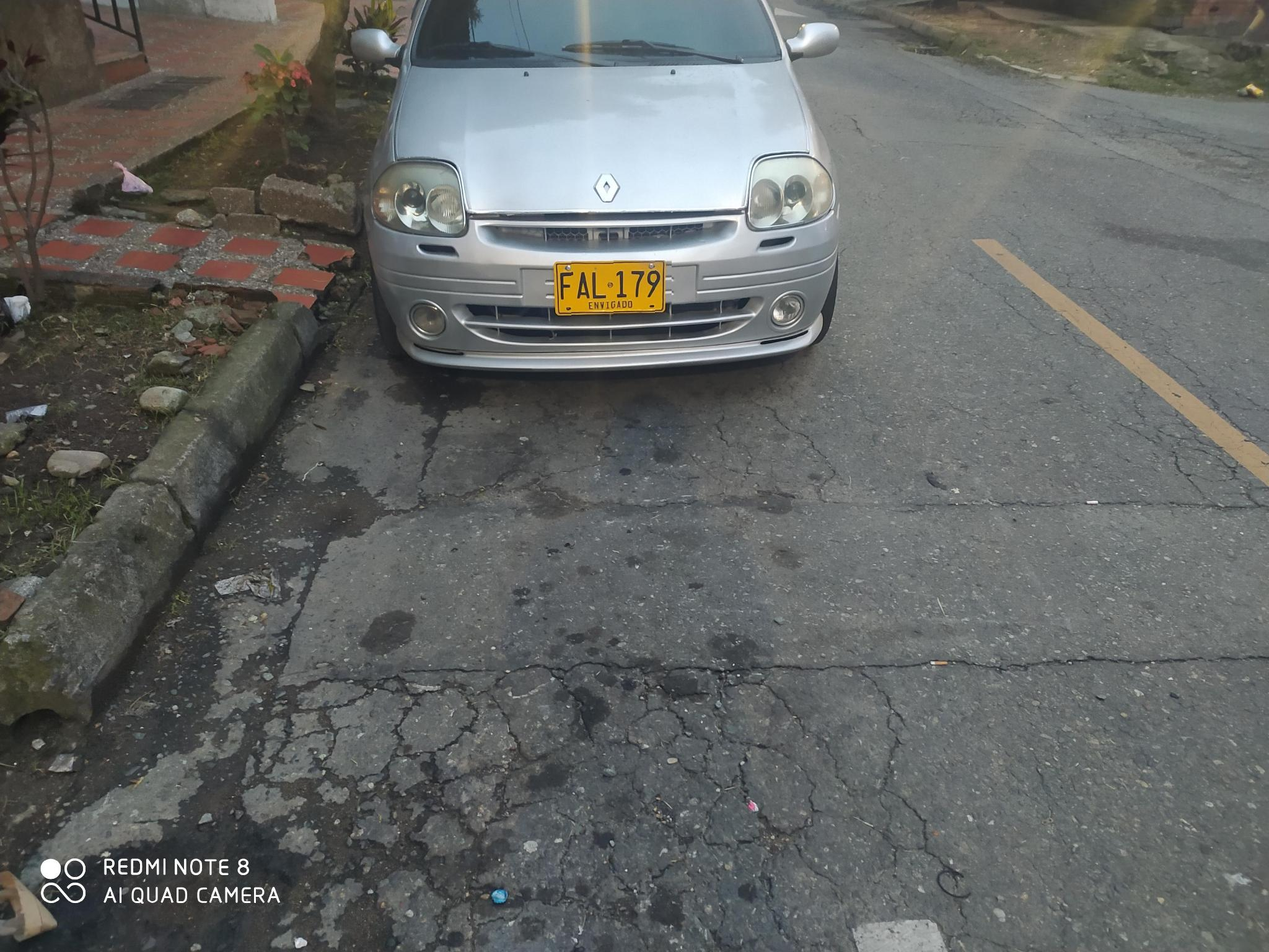placa: (550, 260, 672, 320)
